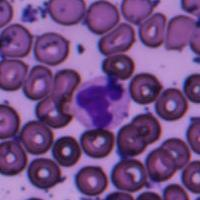N: (72, 74, 131, 130)
